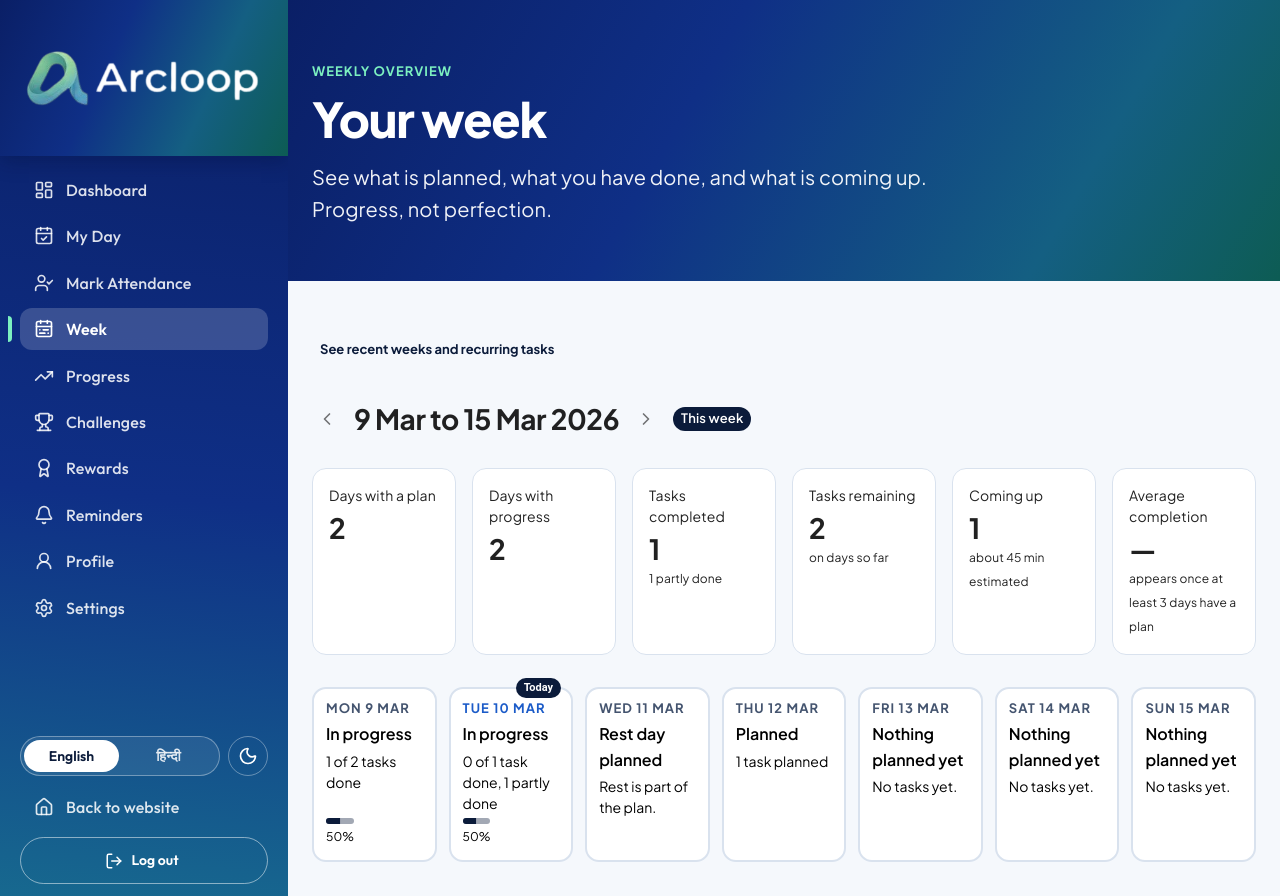
Scenario: Weekly Overview page › shows the selected day's plan and puts the choice in the URL
Expected: the text "This week" is shown, [681,410,743,426]
Click the button with aria-label "Monday 9 Mar" at (374, 774), box [312,687,437,862]
(page scrolled)
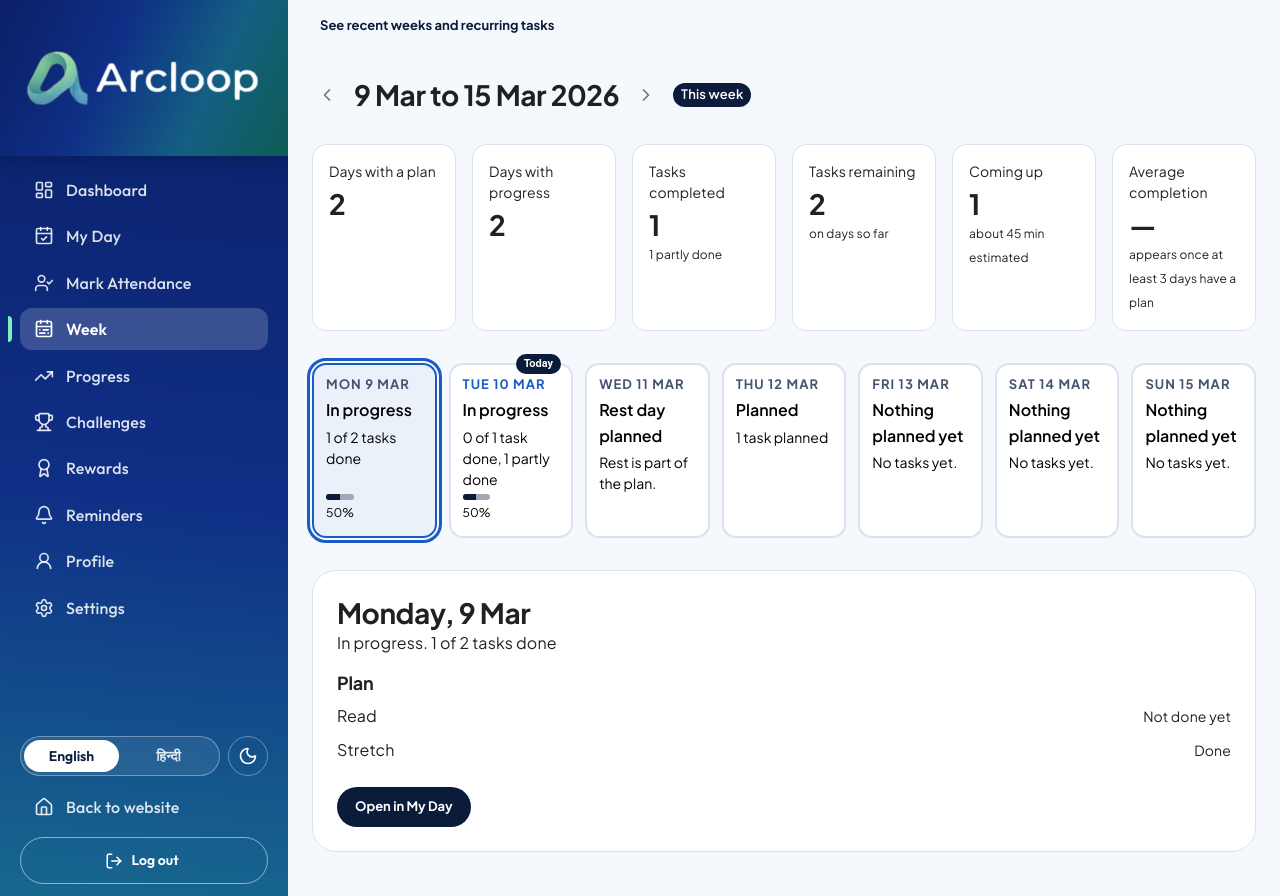
Expected: the text "Stretch" is shown, [337,737,394,763]
Expected: the text "Read" is shown, [337,703,377,729]
